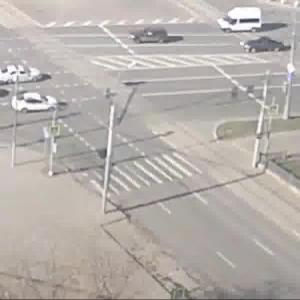car: (12, 90, 65, 114), (129, 22, 181, 46), (217, 10, 266, 35), (242, 38, 291, 54), (1, 67, 45, 83)
